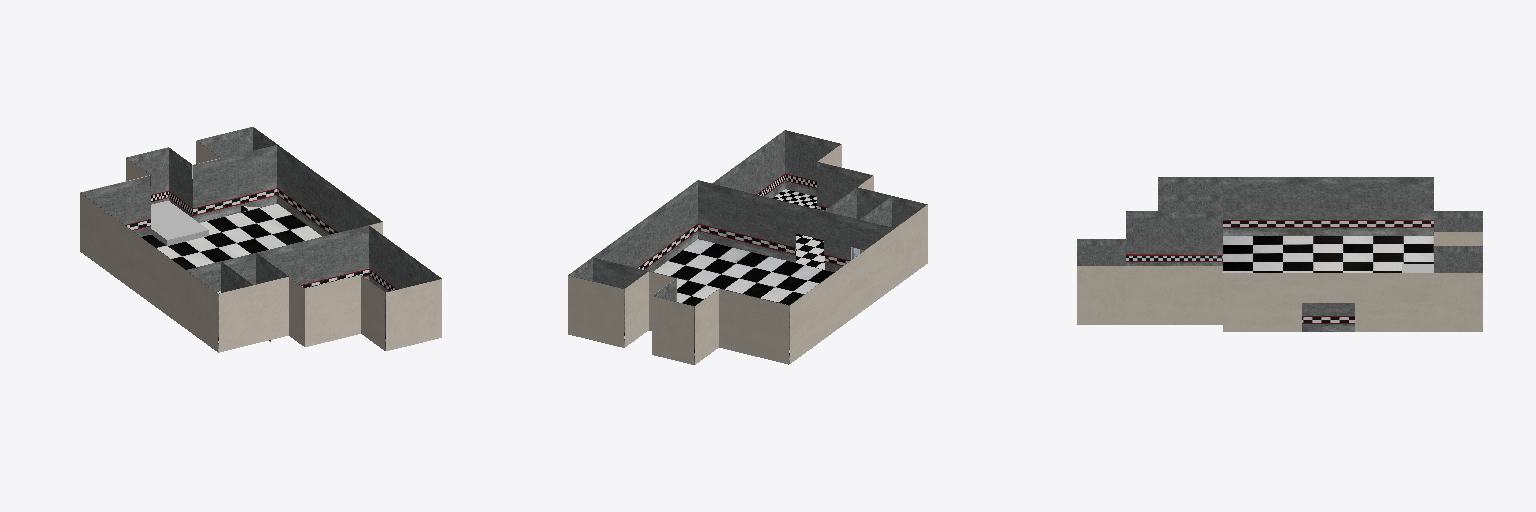
3 views of the same model, side by side, from view 1: azimuth 30°, elevation 25°; view 2: azimuth 150°, elevation 25°; view 3: azimuth 270°, elevation 25° (orthographic).
Visible parts, largest first — view 1: pared5.1, pared12.2, pared1.1, pisoprinc, PARED18.1, pared14.2, pared16.2, pared10.2, pared11.1, pared13.2, escenario, pared15.2 (+5 smaller); view 2: pared1.1, pisoprinc, pared12.2, pared5.2, PARED18.1, pared3.2, pared7.2, pared16.1, pared13.2, pared10.1, pared8.2, pared4.2 (+5 smaller); view 3: pared12.1, pared18.2, pisoprinc, pared11.2, pared9.1, pared17.2, pared2.2, PARED18.1, pared4.1, pared15.1, pared13.1, paredbanio (+2 smaller).
Part boxes in pixels (x1,y1,x2,y2): pared5.1: (81,145,276,236); pared12.2: (80,193,185,328); pared1.1: (187,222,380,291); pisoprinc: (142,204,321,293); PARED18.1: (277,145,381,236); pared14.2: (219,277,288,352); pared16.2: (386,279,441,350); pared10.2: (305,275,360,346); pared11.1: (369,226,417,291); pared13.2: (186,271,217,351); escenario: (151,201,208,245); pared15.2: (361,275,384,350); pared1.1: (698,180,894,271); pisoprinc: (654,239,834,305); pared12.2: (790,229,894,363); pared5.2: (649,272,788,364); PARED18.1: (592,181,697,280); pared3.2: (568,276,623,347); pared7.2: (652,296,693,364); pared16.1: (785,130,840,196); pared13.2: (895,205,927,286); pared10.1: (817,162,872,210); pared8.2: (695,289,718,364); pared4.2: (625,272,648,346); pared12.1: (1223,177,1433,235); pared18.2: (1223,273,1433,331); pisoprinc: (1223,236,1433,272); pared11.2: (1126,266,1222,324); pared9.1: (1126,211,1222,265); pared17.2: (1077,266,1125,324); pared2.2: (1434,273,1482,331); PARED18.1: (1302,303,1354,331); pared4.1: (1434,246,1482,272); pared15.1: (1077,239,1125,265); pared13.1: (1158,177,1222,193); paredbanio: (1158,194,1222,210).
Bounding box in the file's own units: 70.2 × 21 × 125.
10 materials, 5 textured.